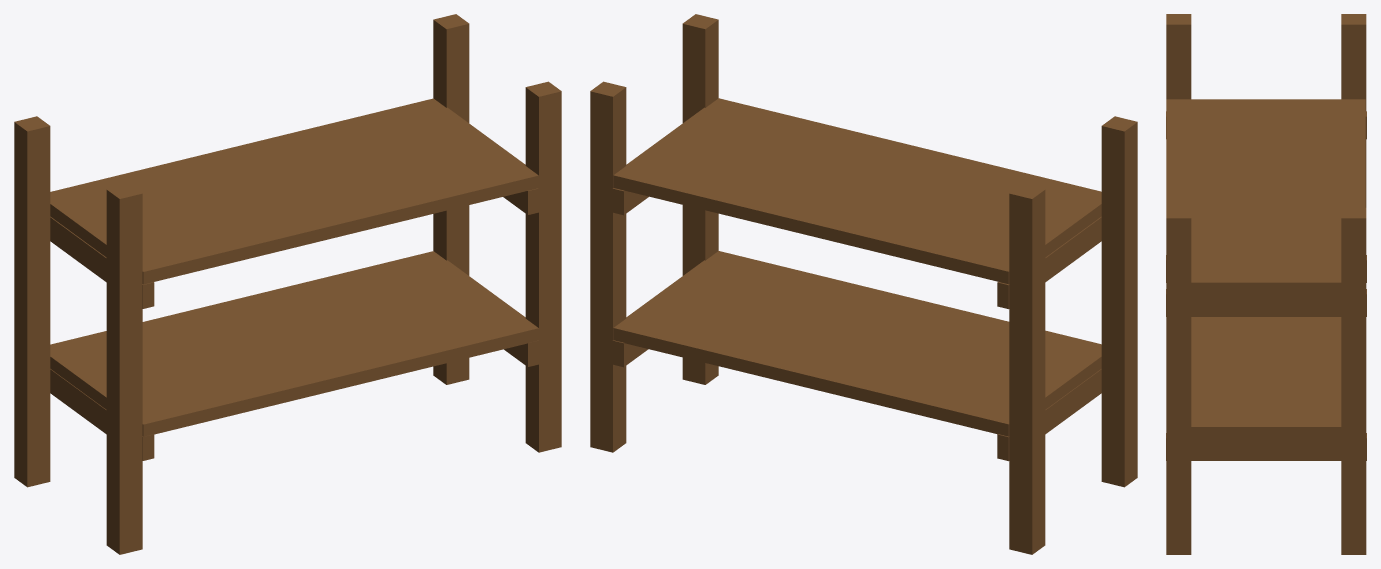
Rendered from Shelf.fbx.
3 views of the same model, side by side, from view 1: azimuth 30°, elevation 25°; view 2: azimuth 150°, elevation 25°; view 3: azimuth 270°, elevation 25° (orthographic). The views are drawn at different scales.
Parts seen in each view (by area): view 1: Cube.013; view 2: Cube.013; view 3: Cube.013.
Part boxes in pixels (x1=…): Cube.013: x1=14, y1=14, x2=561, y2=554; Cube.013: x1=590, y1=14, x2=1137, y2=554; Cube.013: x1=1166, y1=14, x2=1366, y2=554.
Size of the model in its own units: 854 by 657 by 355.
